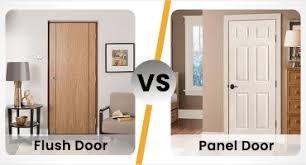chair: (99, 89, 134, 134)
door: (226, 15, 279, 136), (48, 21, 97, 137)
light: (2, 59, 32, 108), (284, 28, 303, 68)
table: (4, 104, 43, 140), (284, 68, 303, 136)
